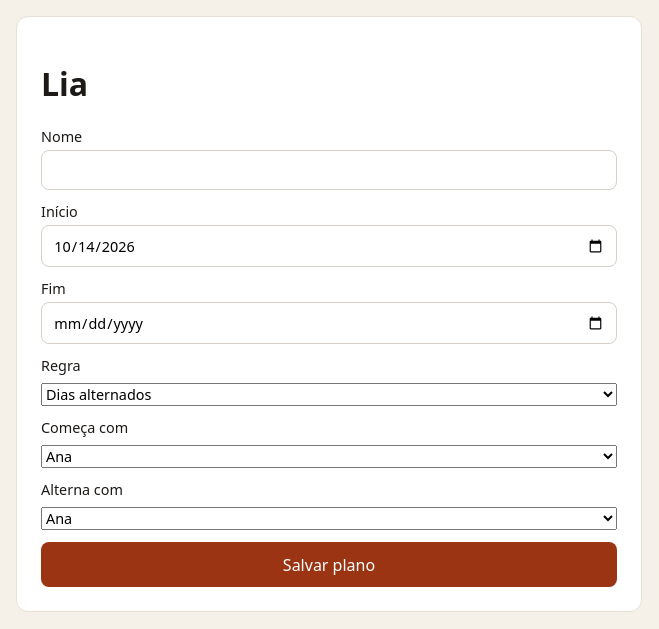
Test case: saves alternate days when there is no plan
The image size is (659, 629).
Type "Dias da Lia" into the field labelled "Nome" at (329, 170), box [41, 150, 617, 190]
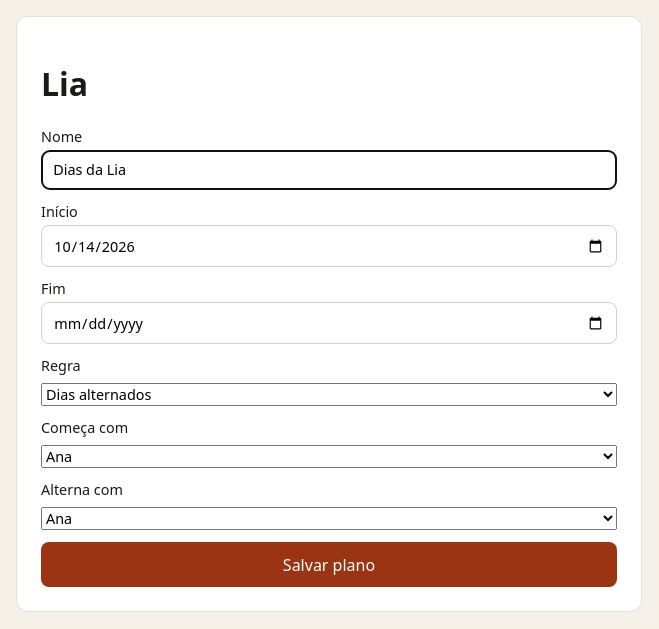
Select "Bruno" in the dropdown labelled "Alterna com" at (329, 519), box [41, 507, 617, 530]
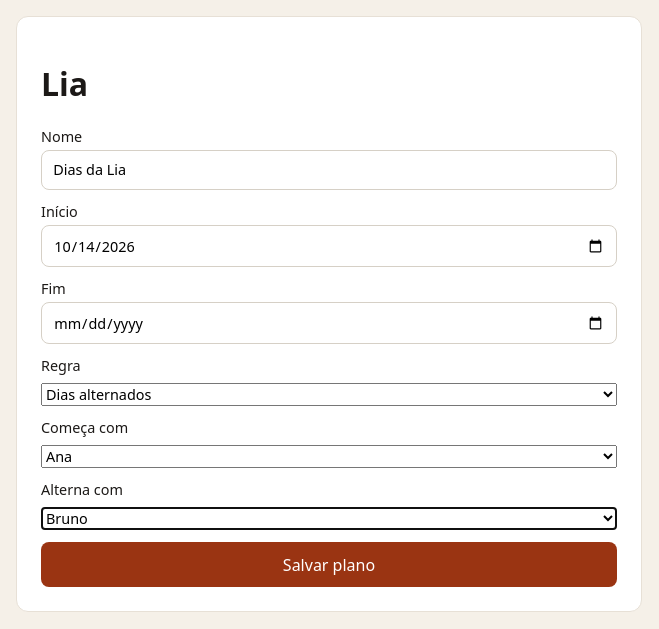
Click the button "Salvar plano" at (329, 565), box [41, 542, 617, 587]
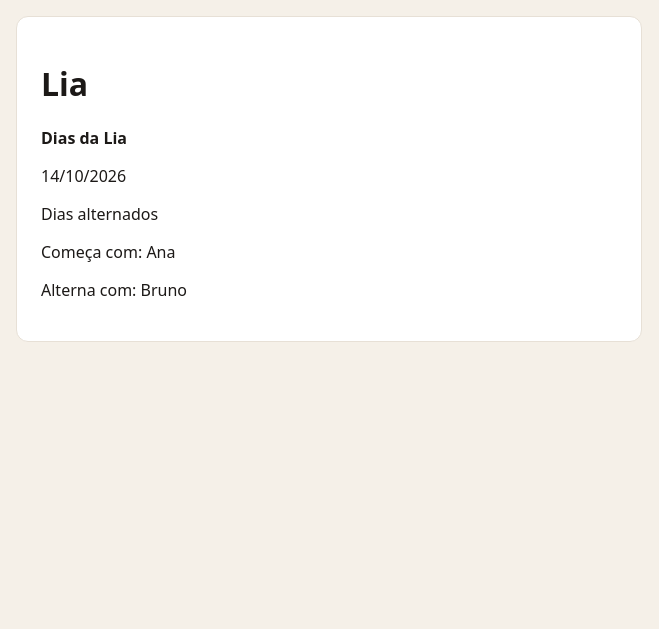
Check: the heading "Dias da Lia" is shown, box [41, 127, 127, 149]
Check: the text "Dias alternados" is shown, box [41, 203, 158, 225]
Check: the text "Começa com: Ana" is shown, box [41, 241, 176, 263]
